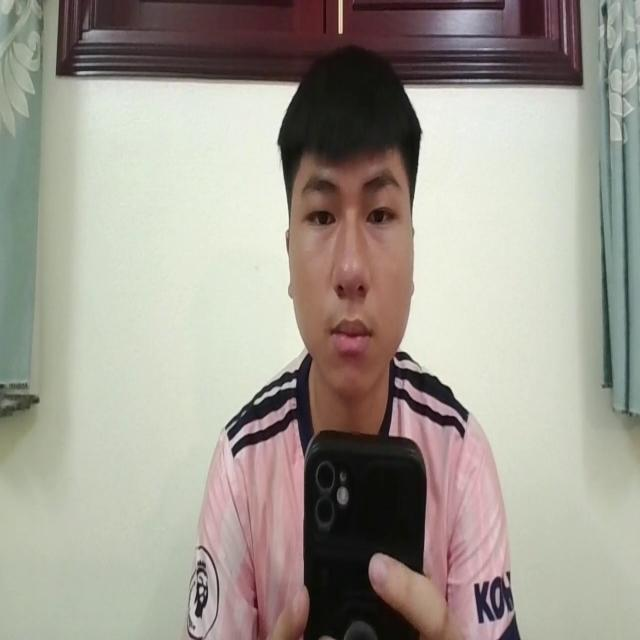phone: (298, 418, 428, 640)
student: (189, 43, 514, 640)
